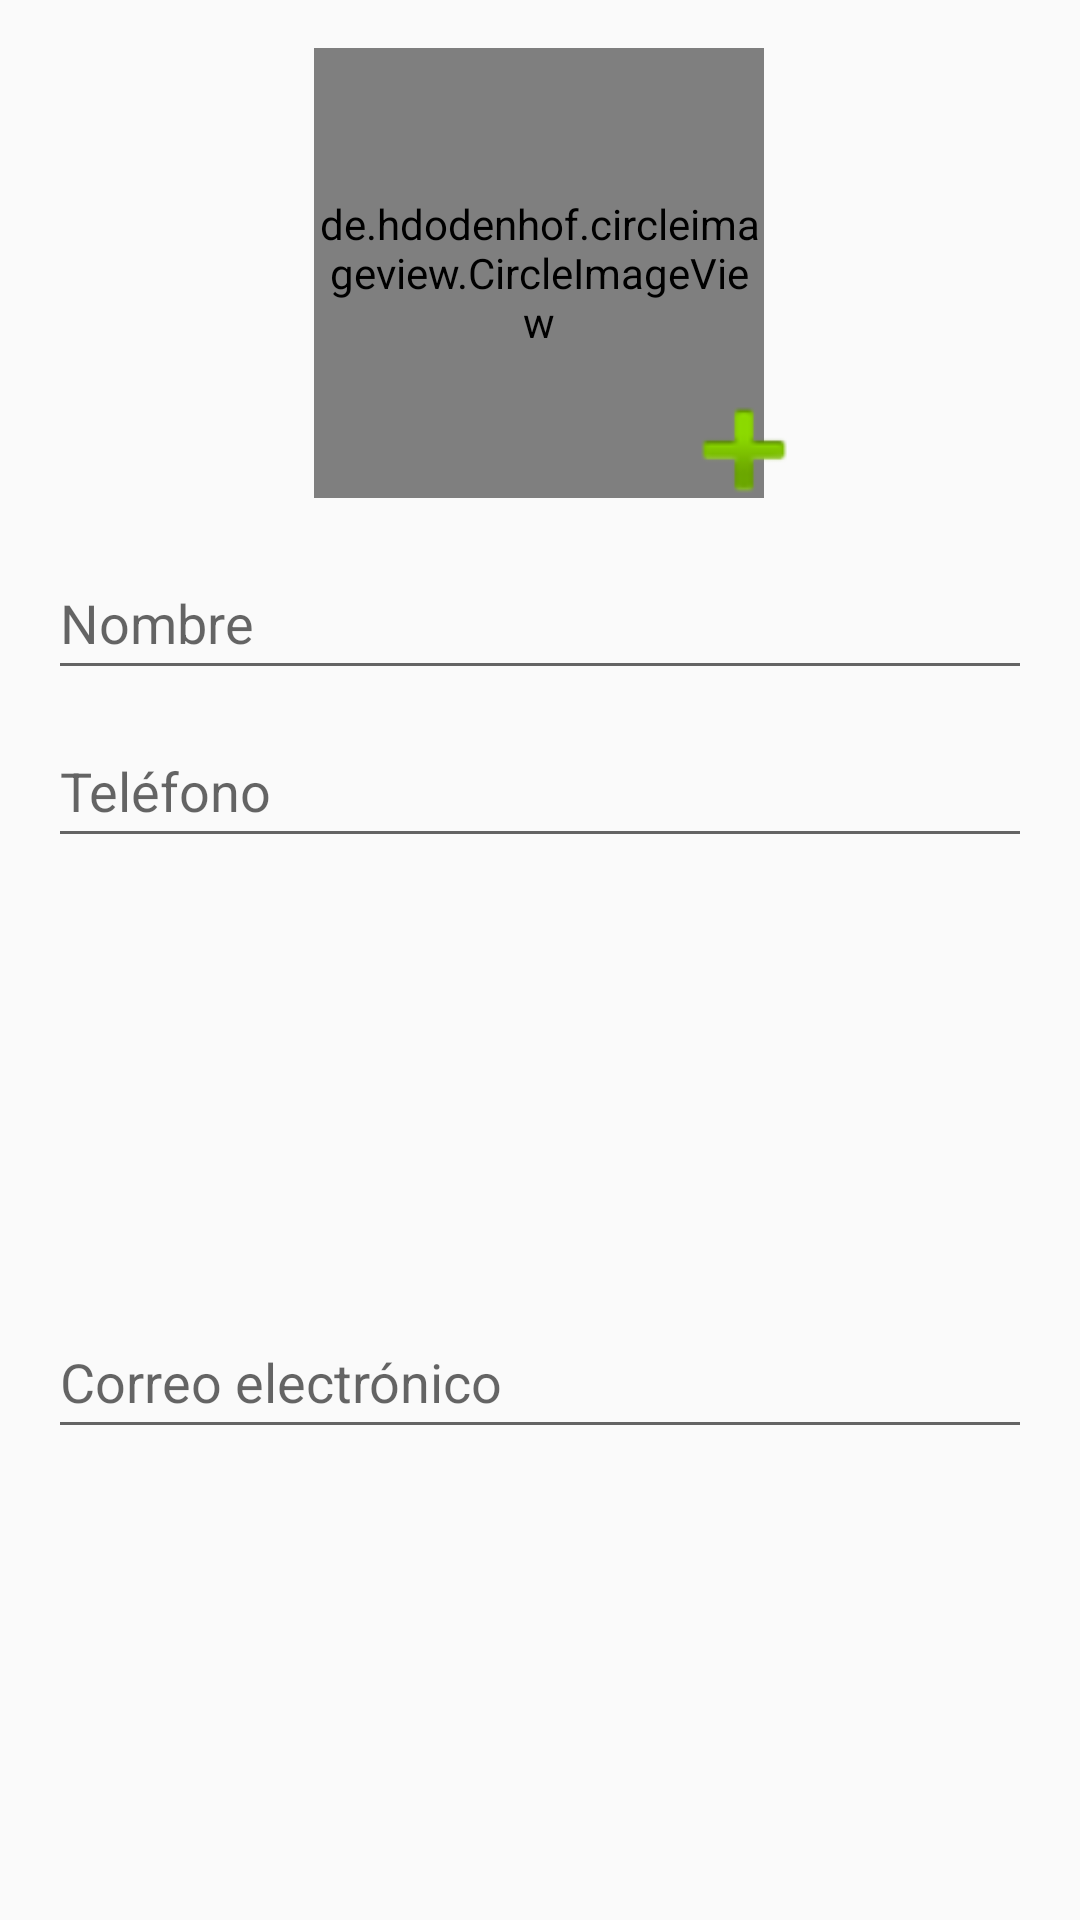

Named icons in this screenshot (1080px x 1920px) and their bounding boxes, rect(x1, y1, x2, y2):
add: rect(669, 375, 787, 498)
